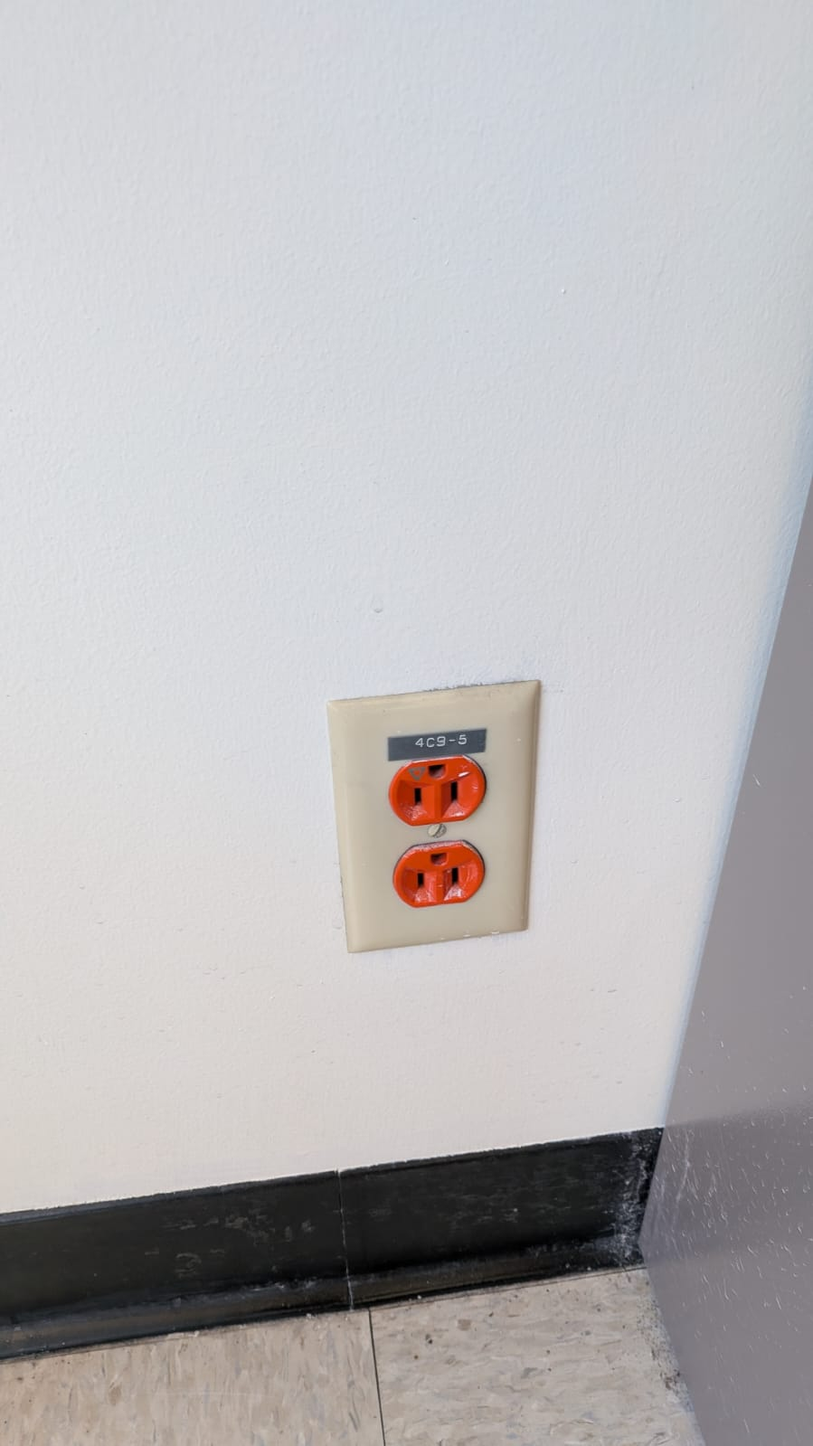electrical socket: (331, 682, 542, 951)
